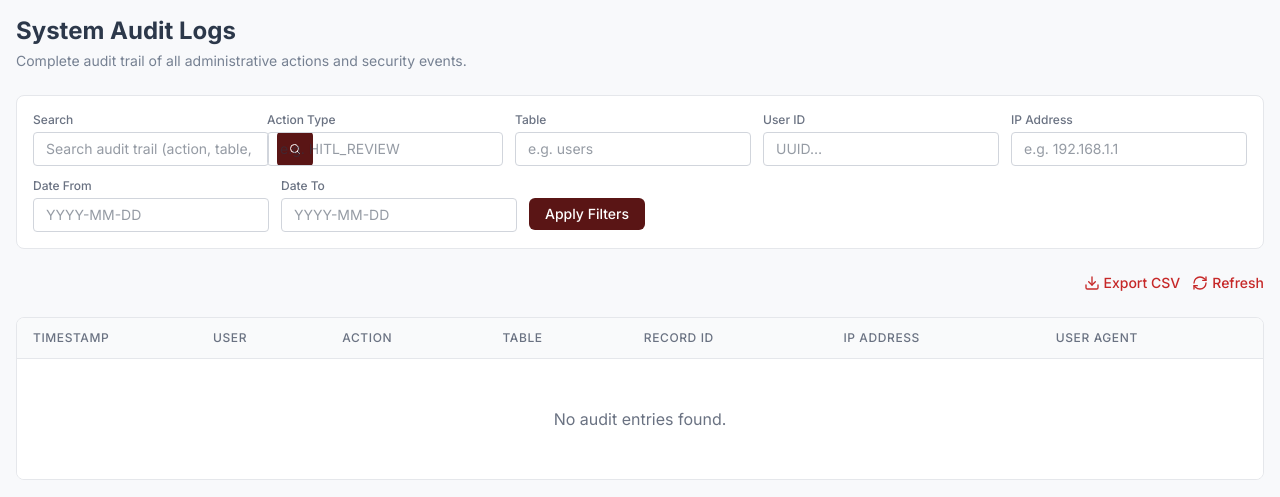
Test: Admin Audit page › shows Clear Filters button when filters are active
Expected: the heading "System Audit Logs" is shown, top-left (16, 16), bottom-right (236, 45)
Expected: the text "Clear Filters" is not shown
# Add a filter
Step 1. Type "LOGIN" into the field named "Filter by action type" → x=385, y=149, box top-left (267, 132), bottom-right (503, 166)
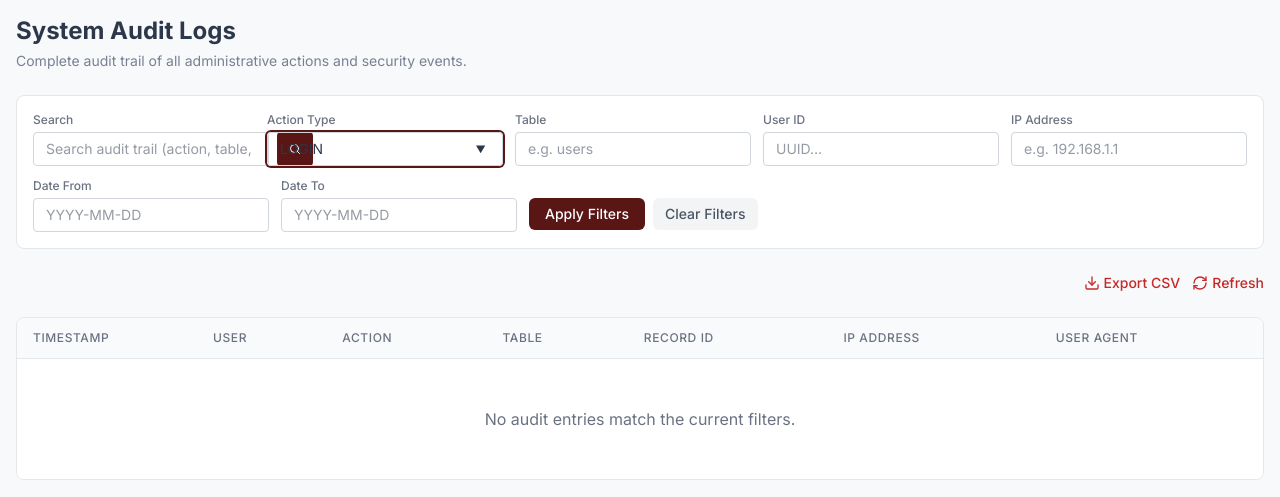
Result: the button "Clear Filters" is shown at top-left (653, 198), bottom-right (758, 230)
